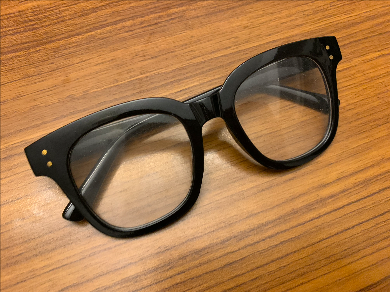Nonfood: (61, 56, 315, 194)
